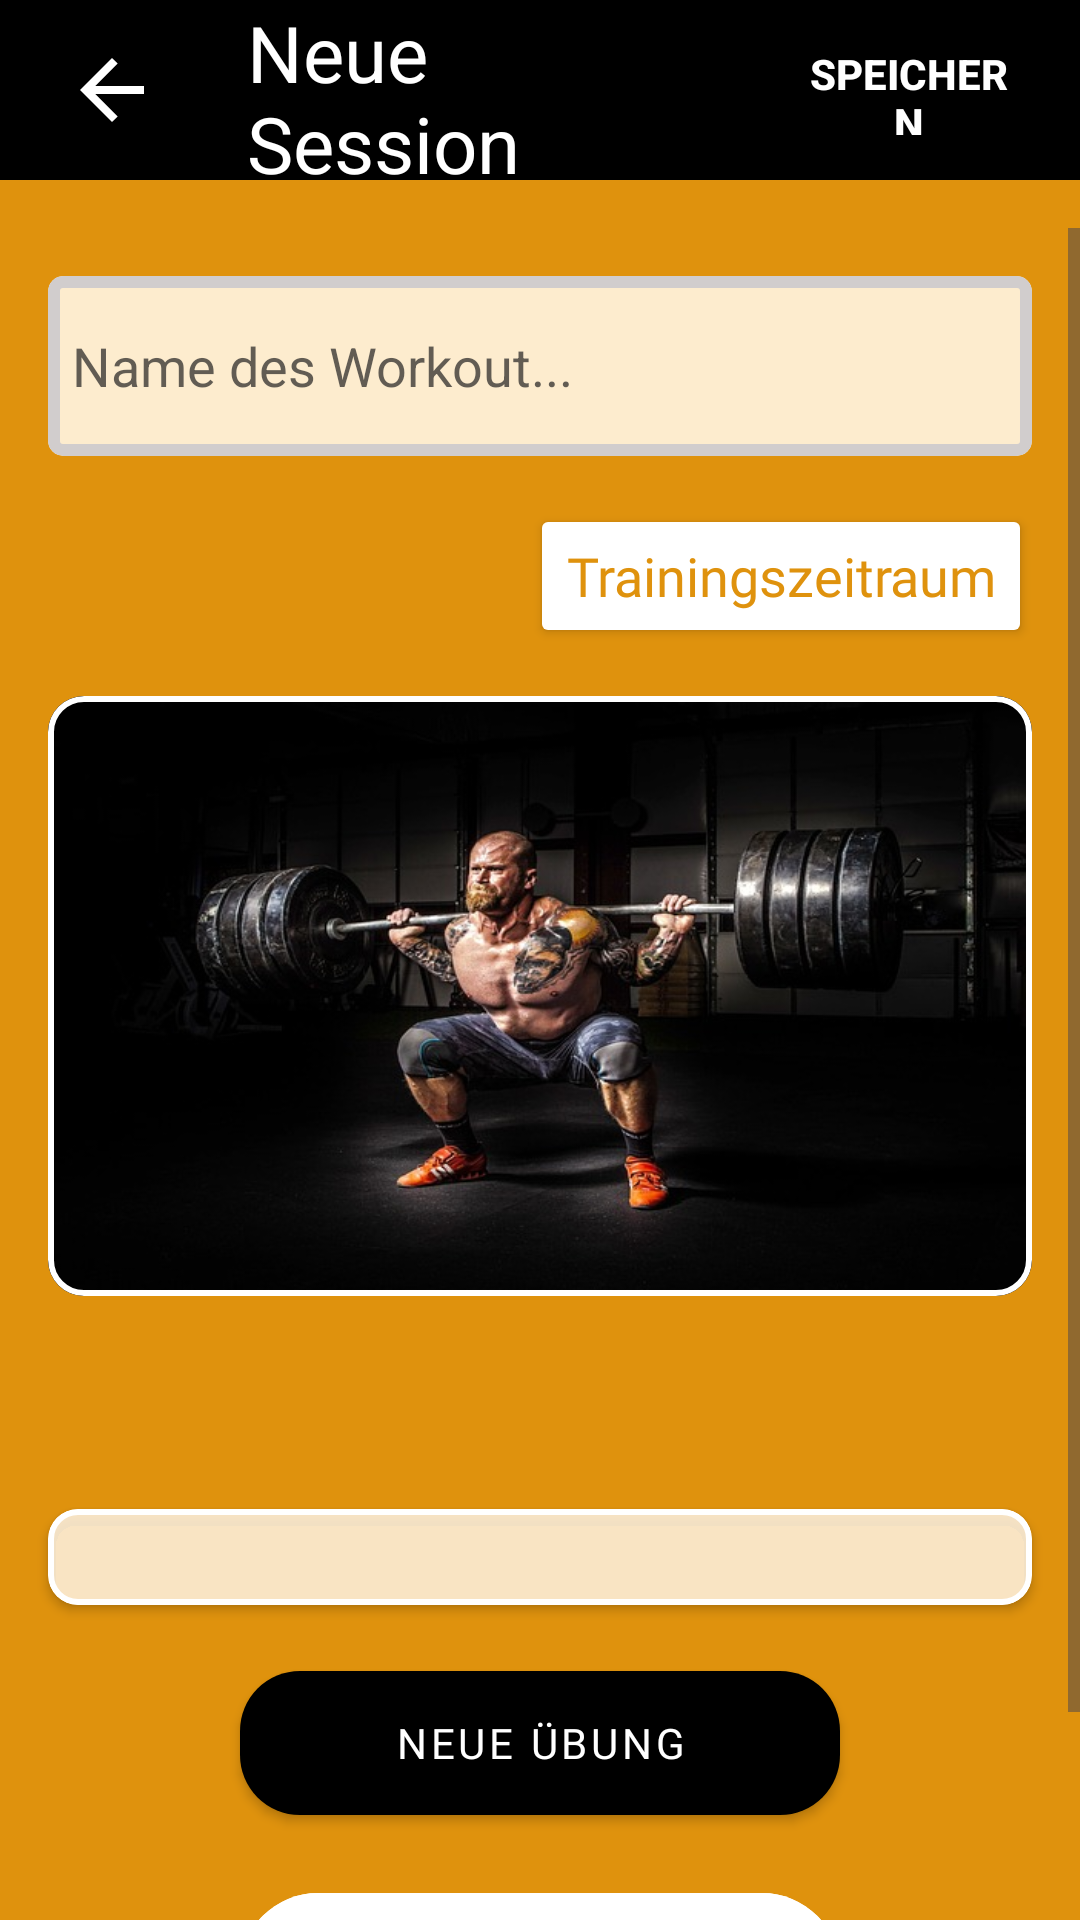

Named icons in this screenshot (1080x1920) and their bounding boxes, (x1, y1, x2, y2):
Navigate back: (80, 58, 144, 122)
